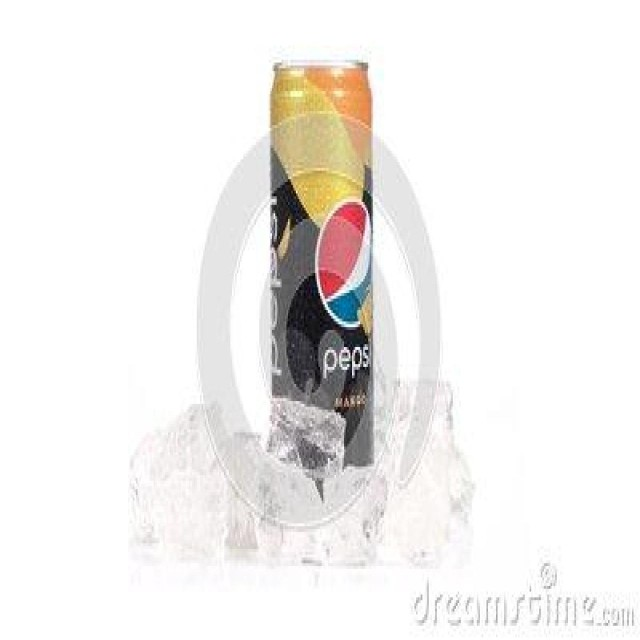pepsi: (318, 191, 375, 328)
